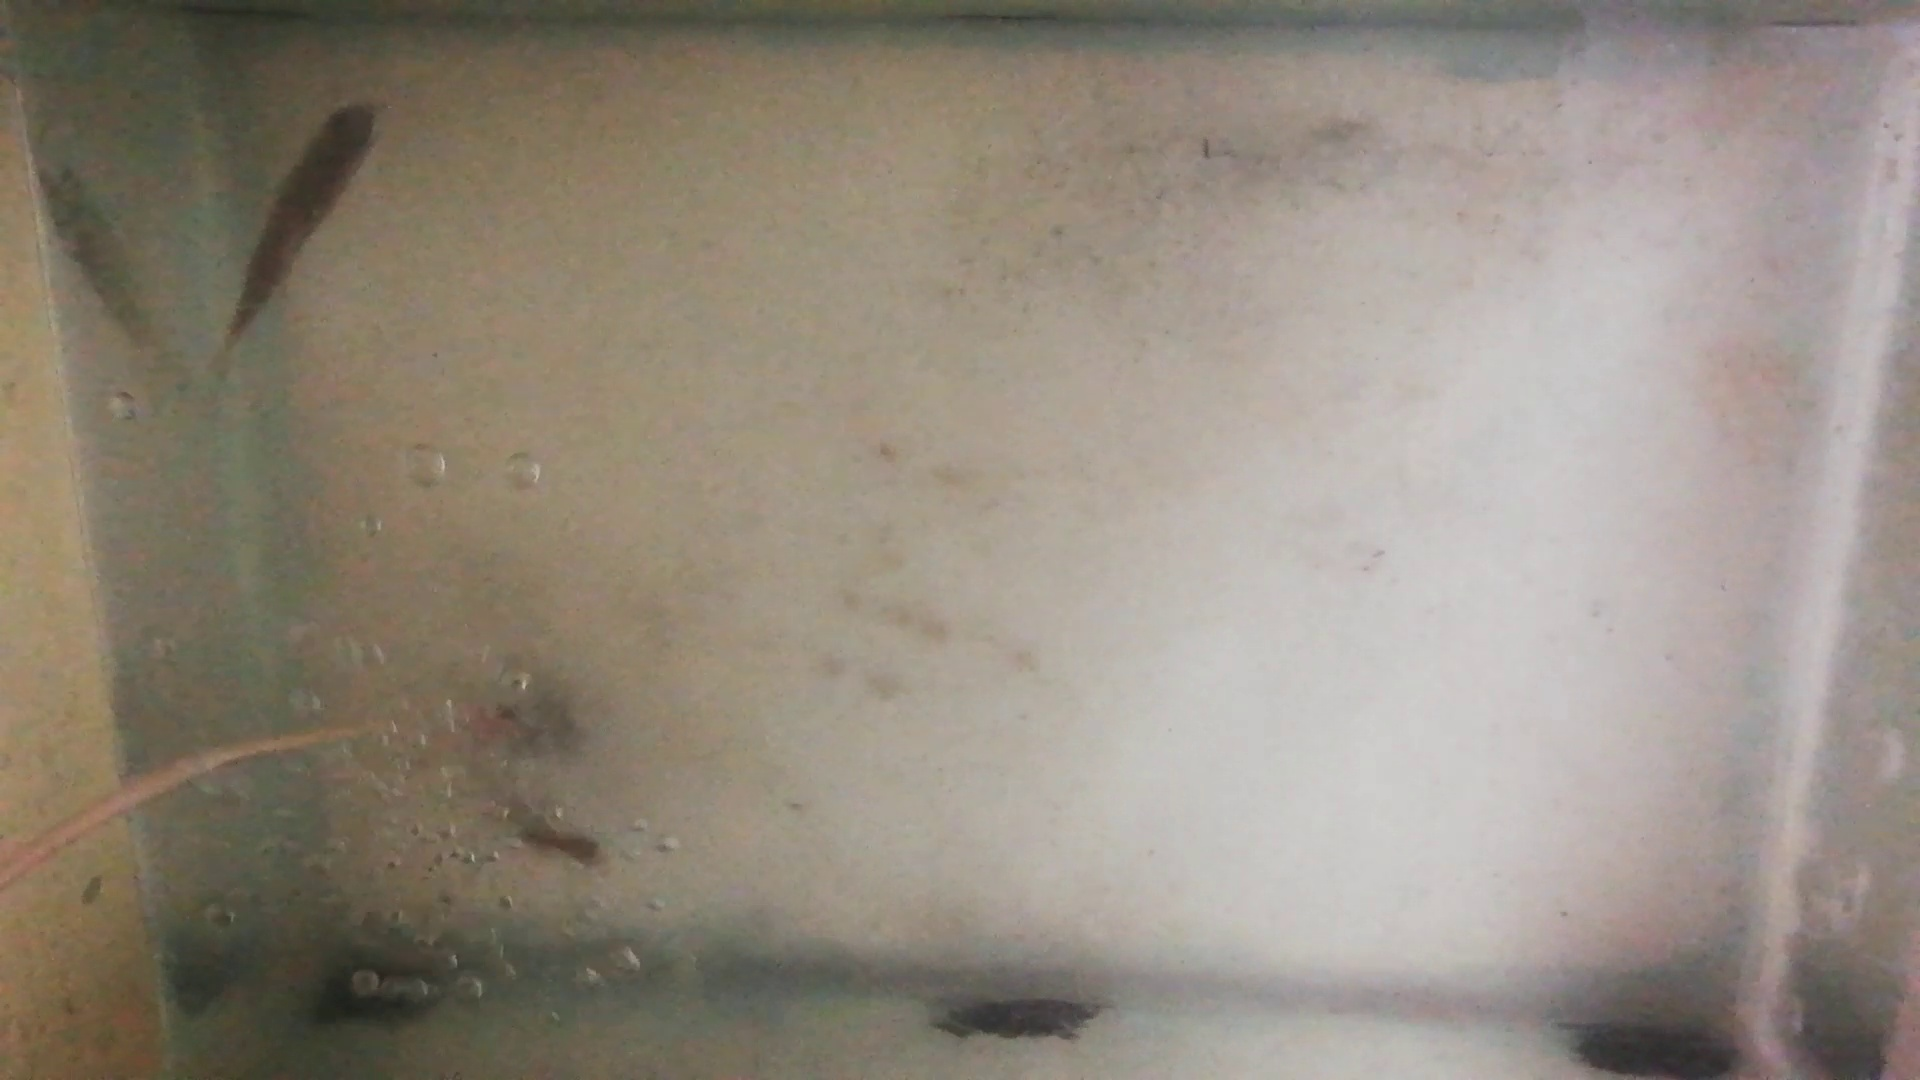fish: (227, 100, 385, 342), (463, 783, 607, 862)
